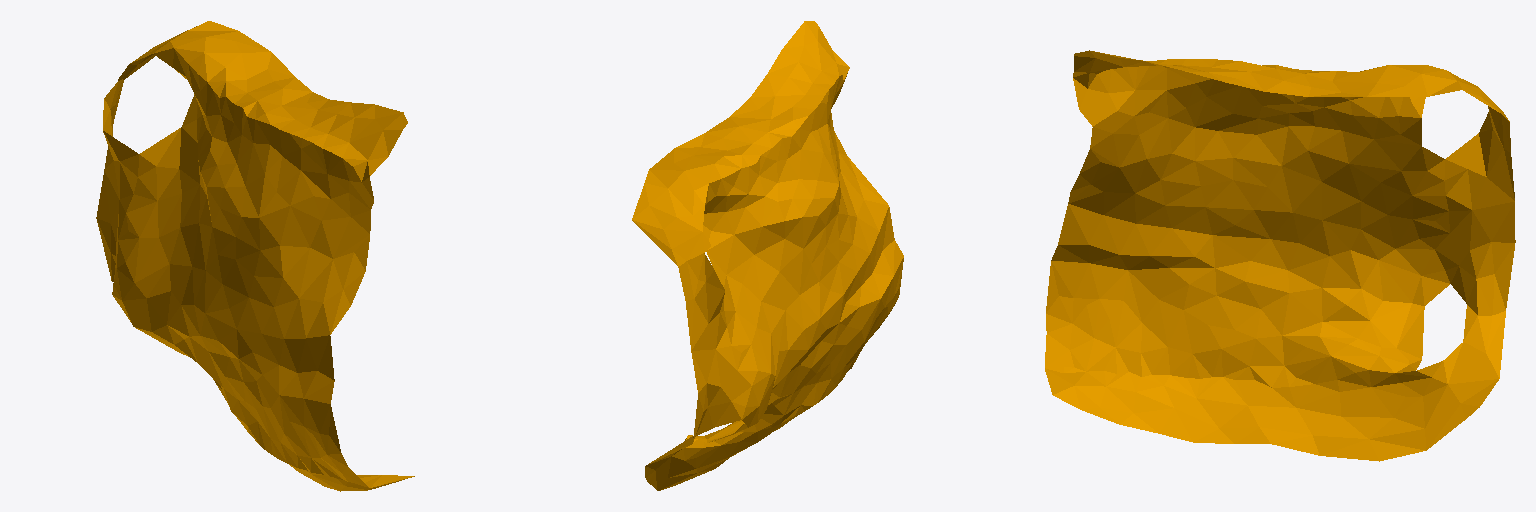
robot.urdf — init:
<?xml version='1.0' encoding='utf-8'?>
<robot name="init">
<link name="link_0"><inertial><mass value="1.0" /><origin rpy="0 0 0" xyz="0.000000 0.000000 0.000000" /><inertia ixx="1.0" ixy="0.0" ixz="0.0" iyy="1.0" iyz="0.0" izz="1.0" /></inertial><visual><origin rpy="0 0 0" xyz="0.000000 0.000000 0.000000" /><geometry><mesh filename="./clothHuman/cloth/2506.obj" /></geometry></visual><collision><origin rpy="0 0 0" xyz="0.000000 0.000000 0.000000" /><geometry><mesh filename="./clothHuman/cloth/2506.obj" /></geometry></collision></link></robot>

--- Render facts (derived) ---
3 views of the same robot in one strip: view 1: azimuth 30°, elevation 25°; view 2: azimuth 150°, elevation 25°; view 3: azimuth 270°, elevation 25° (orthographic).
Robot: init — 1 links, 0 joints (none); root link link_0; default pose: all joints at 0.
Links seen in each view (by area): view 1: link_0; view 2: link_0; view 3: link_0.
Boxes of the visible links, box(x1,y1,x2,y2) form: link_0: box(96, 21, 414, 491); link_0: box(632, 21, 903, 490); link_0: box(1045, 50, 1515, 461).
Size in the robot's own frame: 1.2 by 3.98 by 3.85 metres.
1 mesh visuals loaded from 1 distinct referenced files (1 OBJ).